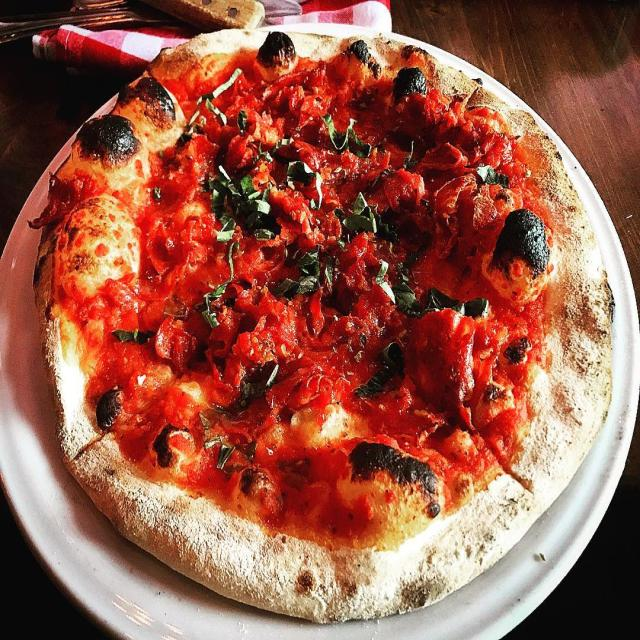basil: (208, 165, 276, 242), (494, 208, 550, 278), (392, 282, 488, 318), (201, 242, 239, 328), (274, 245, 334, 297), (322, 115, 372, 157), (286, 162, 322, 206), (343, 192, 376, 232), (476, 165, 509, 188)
pizza: (31, 30, 612, 622)
